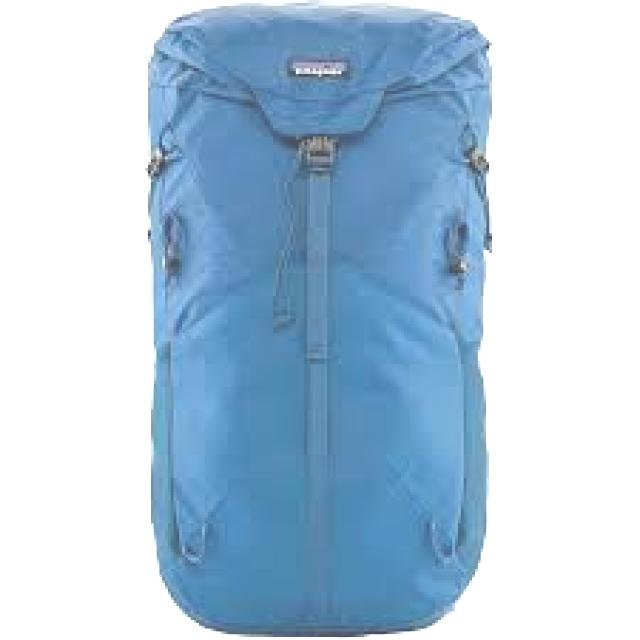backpack: (144, 1, 496, 638)
